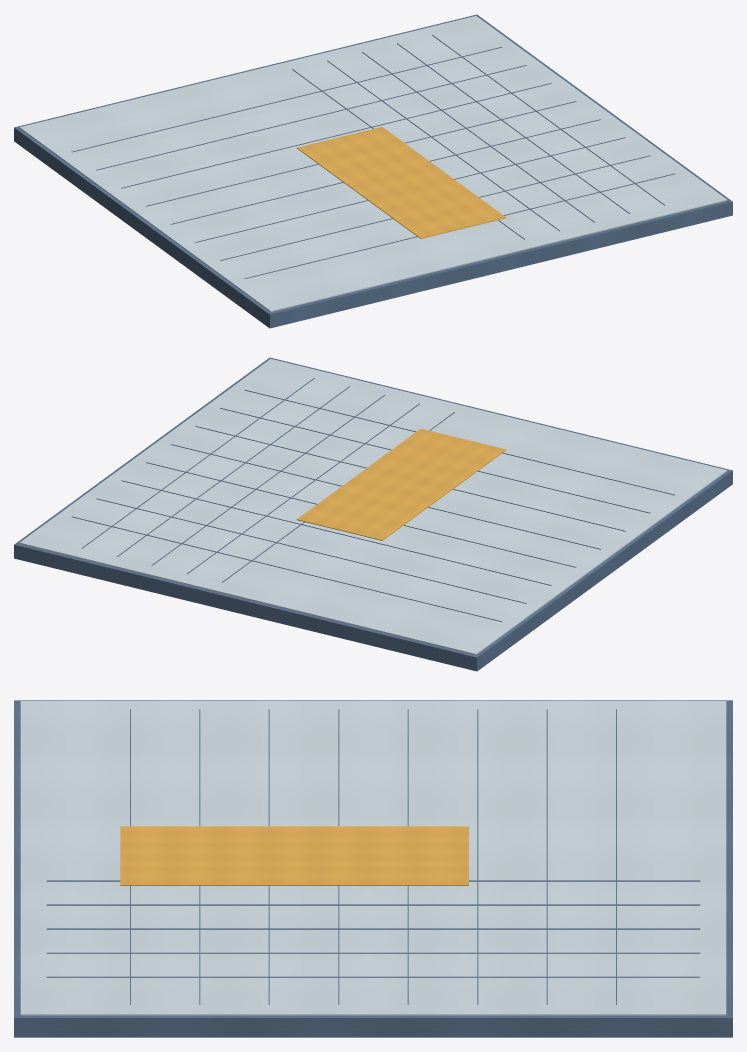
The model's file is atlas100-s051-a07.lod2.glb.
The picture shows the model from 3 angles, top to bottom: view 1: azimuth 30°, elevation 25°; view 2: azimuth 150°, elevation 25°; view 3: azimuth 270°, elevation 25°; orthographic projection. The views are drawn at different scales.
Parts seen in each view (by area): view 1: atlas100-s051-a07:part-001, atlas100-s051-a07:part-000, atlas100-s051-a07:part-021, atlas100-s051-a07:part-015, atlas100-s051-a07:part-013, atlas100-s051-a07:part-014, atlas100-s051-a07:part-019, atlas100-s051-a07:part-020, atlas100-s051-a07:part-016, atlas100-s051-a07:part-017, atlas100-s051-a07:part-018; view 2: atlas100-s051-a07:part-001, atlas100-s051-a07:part-000, atlas100-s051-a07:part-021, atlas100-s051-a07:part-014, atlas100-s051-a07:part-013, atlas100-s051-a07:part-015, atlas100-s051-a07:part-016, atlas100-s051-a07:part-017, atlas100-s051-a07:part-018, atlas100-s051-a07:part-020, atlas100-s051-a07:part-019; view 3: atlas100-s051-a07:part-001, atlas100-s051-a07:part-000, atlas100-s051-a07:part-021, atlas100-s051-a07:part-010, atlas100-s051-a07:part-009, atlas100-s051-a07:part-012, atlas100-s051-a07:part-011, atlas100-s051-a07:part-008, atlas100-s051-a07:part-014, atlas100-s051-a07:part-015.
Part boxes in pixels (x1,y1,x2,y2): atlas100-s051-a07:part-001: (19, 16, 727, 311); atlas100-s051-a07:part-000: (14, 14, 732, 328); atlas100-s051-a07:part-021: (297, 126, 506, 238); atlas100-s051-a07:part-015: (121, 83, 551, 188); atlas100-s051-a07:part-013: (72, 47, 502, 152); atlas100-s051-a07:part-014: (96, 65, 526, 170); atlas100-s051-a07:part-019: (220, 155, 650, 260); atlas100-s051-a07:part-020: (244, 173, 674, 278); atlas100-s051-a07:part-016: (146, 101, 576, 206); atlas100-s051-a07:part-017: (170, 119, 600, 224); atlas100-s051-a07:part-018: (195, 137, 625, 242); atlas100-s051-a07:part-001: (19, 359, 727, 654); atlas100-s051-a07:part-000: (14, 357, 732, 671); atlas100-s051-a07:part-021: (296, 428, 506, 540); atlas100-s051-a07:part-014: (96, 498, 526, 603); atlas100-s051-a07:part-013: (72, 516, 502, 621); atlas100-s051-a07:part-015: (121, 480, 551, 585); atlas100-s051-a07:part-016: (146, 462, 576, 567); atlas100-s051-a07:part-017: (170, 444, 600, 549); atlas100-s051-a07:part-018: (195, 426, 625, 531); atlas100-s051-a07:part-020: (244, 390, 674, 495); atlas100-s051-a07:part-019: (220, 408, 650, 513); atlas100-s051-a07:part-001: (20, 701, 726, 1015); atlas100-s051-a07:part-000: (14, 700, 732, 1037); atlas100-s051-a07:part-021: (120, 826, 468, 885); atlas100-s051-a07:part-010: (46, 928, 700, 929); atlas100-s051-a07:part-009: (46, 904, 700, 905); atlas100-s051-a07:part-012: (46, 976, 700, 977); atlas100-s051-a07:part-011: (46, 952, 700, 953); atlas100-s051-a07:part-008: (46, 880, 700, 881); atlas100-s051-a07:part-014: (546, 709, 547, 1004); atlas100-s051-a07:part-015: (477, 709, 478, 1004).
Bounding box in the file's own units: 11.9 × 0.404 × 11.39.
3 materials, 3 textured.
